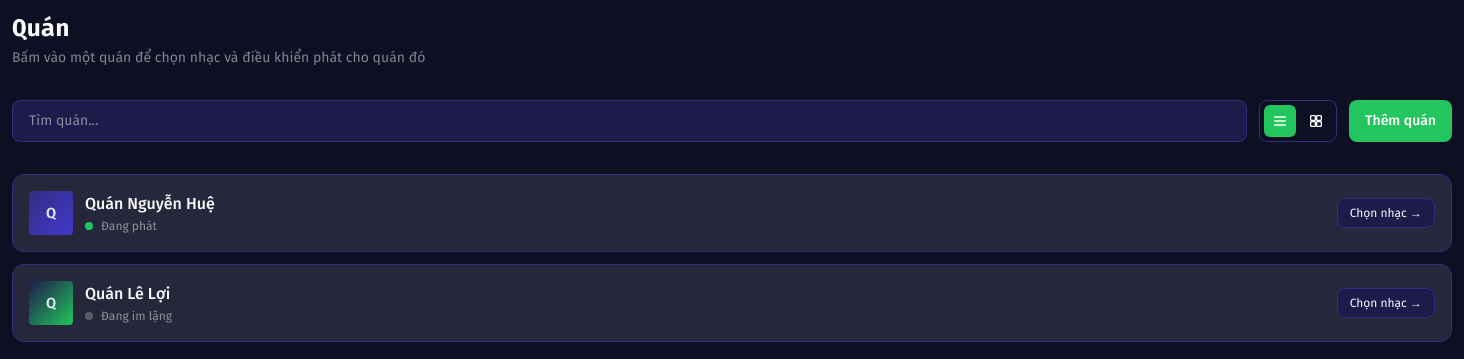
it: StoresPage › filters the store list as the user types
Expected: the text "Quán Nguyễn Huệ" is shown, [85,192,215,216]
Type "Lợi" into the search field labelled "Tìm quán" at point(630, 121), box [12,100,1247,142]
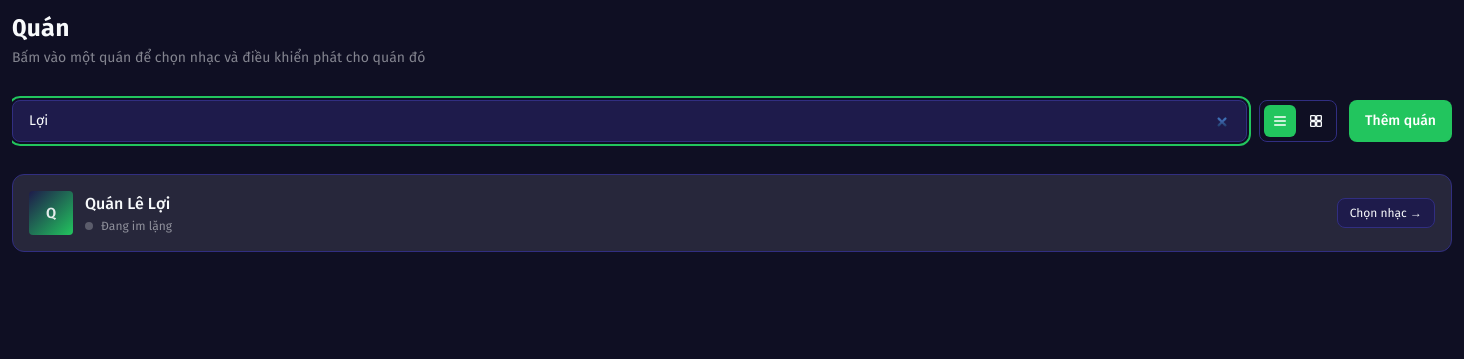
Expected: the text "Quán Lê Lợi" is shown, [85,192,172,216]
Result: the link "Quán Nguyễn Huệ" is gone
